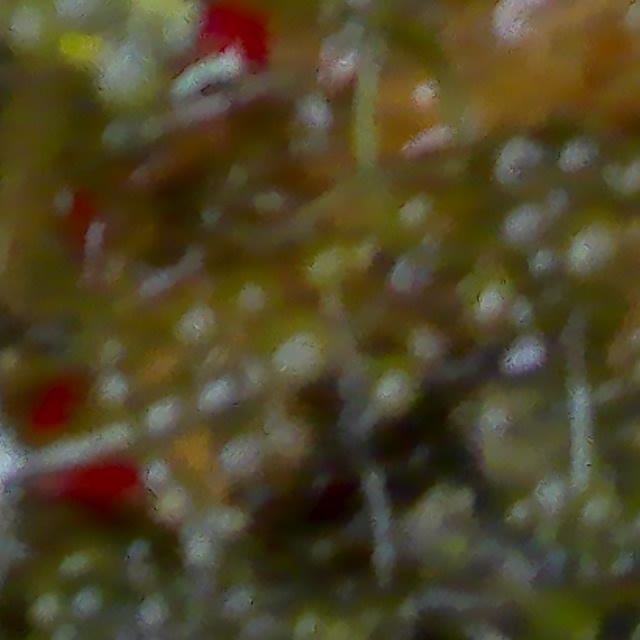SeaGrape: (374, 250, 444, 323), (455, 275, 521, 348)
